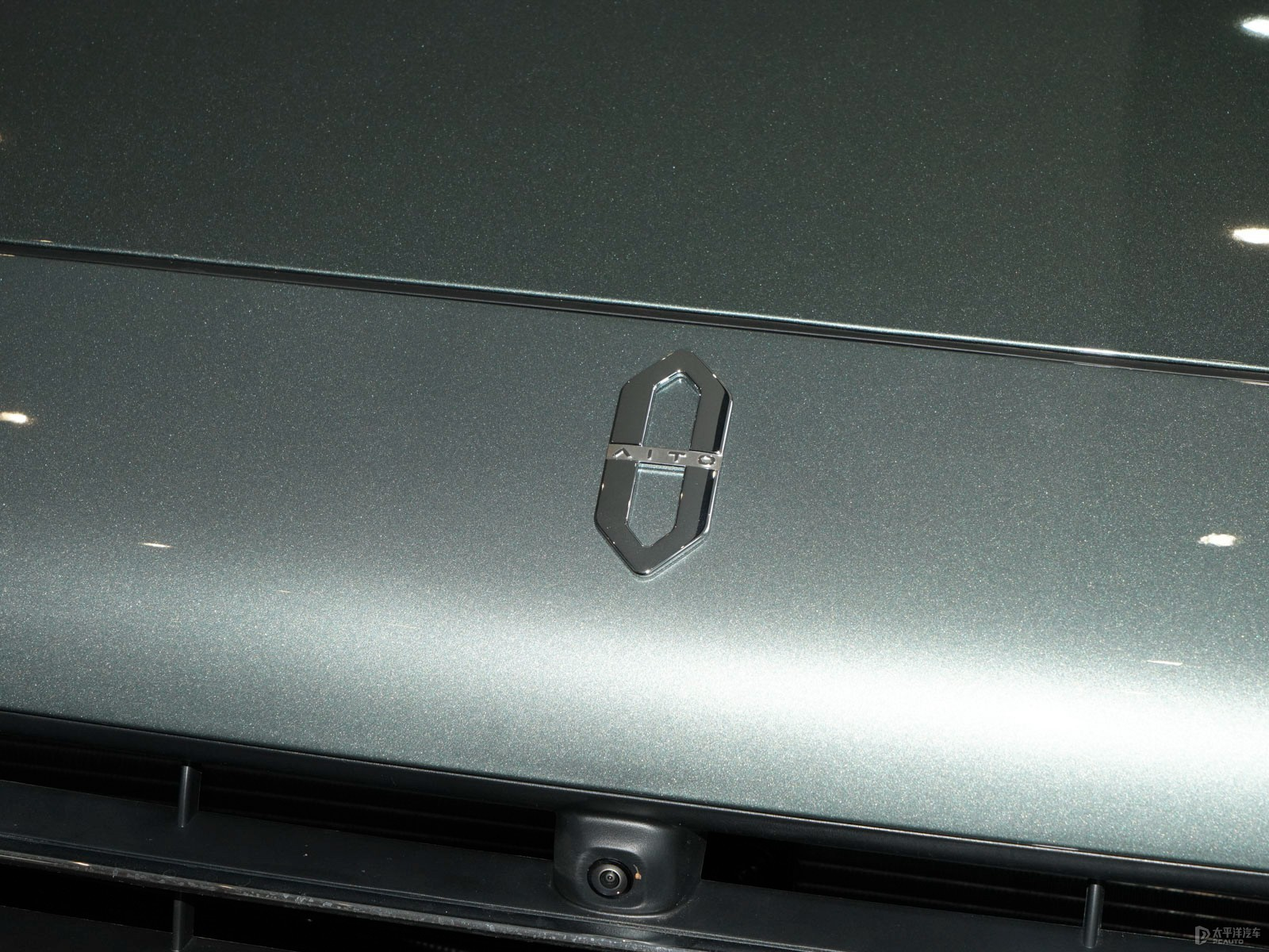AITO: (596, 350, 732, 577)
